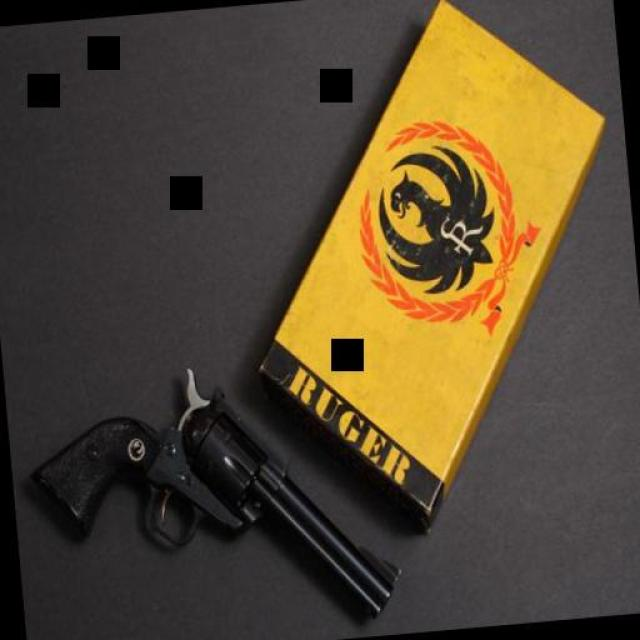gun: (16, 345, 405, 640)
